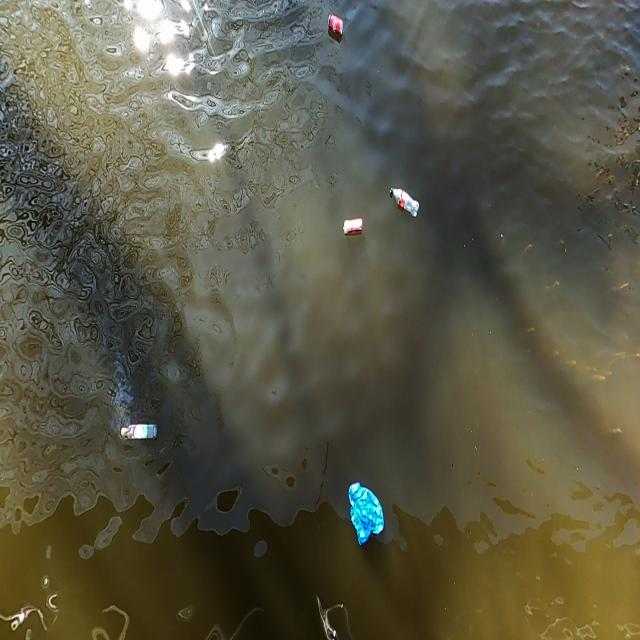Bouteille plastique: (116, 418, 156, 452), (387, 183, 425, 218)
Non plastique: (340, 215, 364, 242), (323, 14, 346, 38)
